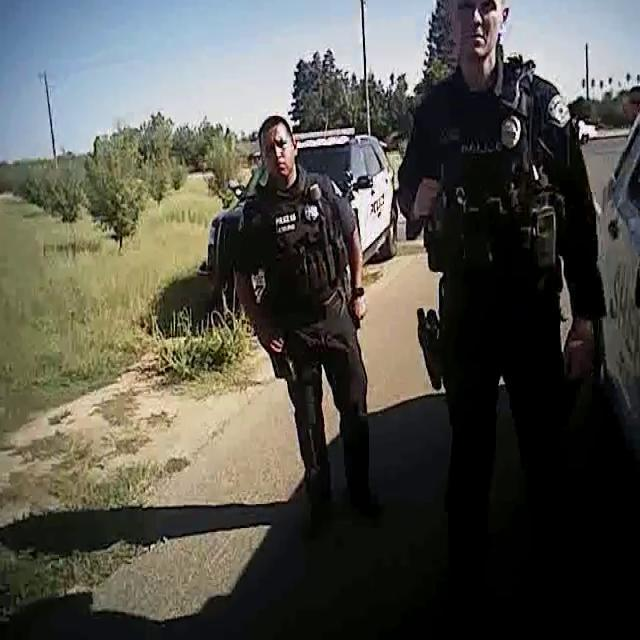gun: (406, 296, 446, 403)
